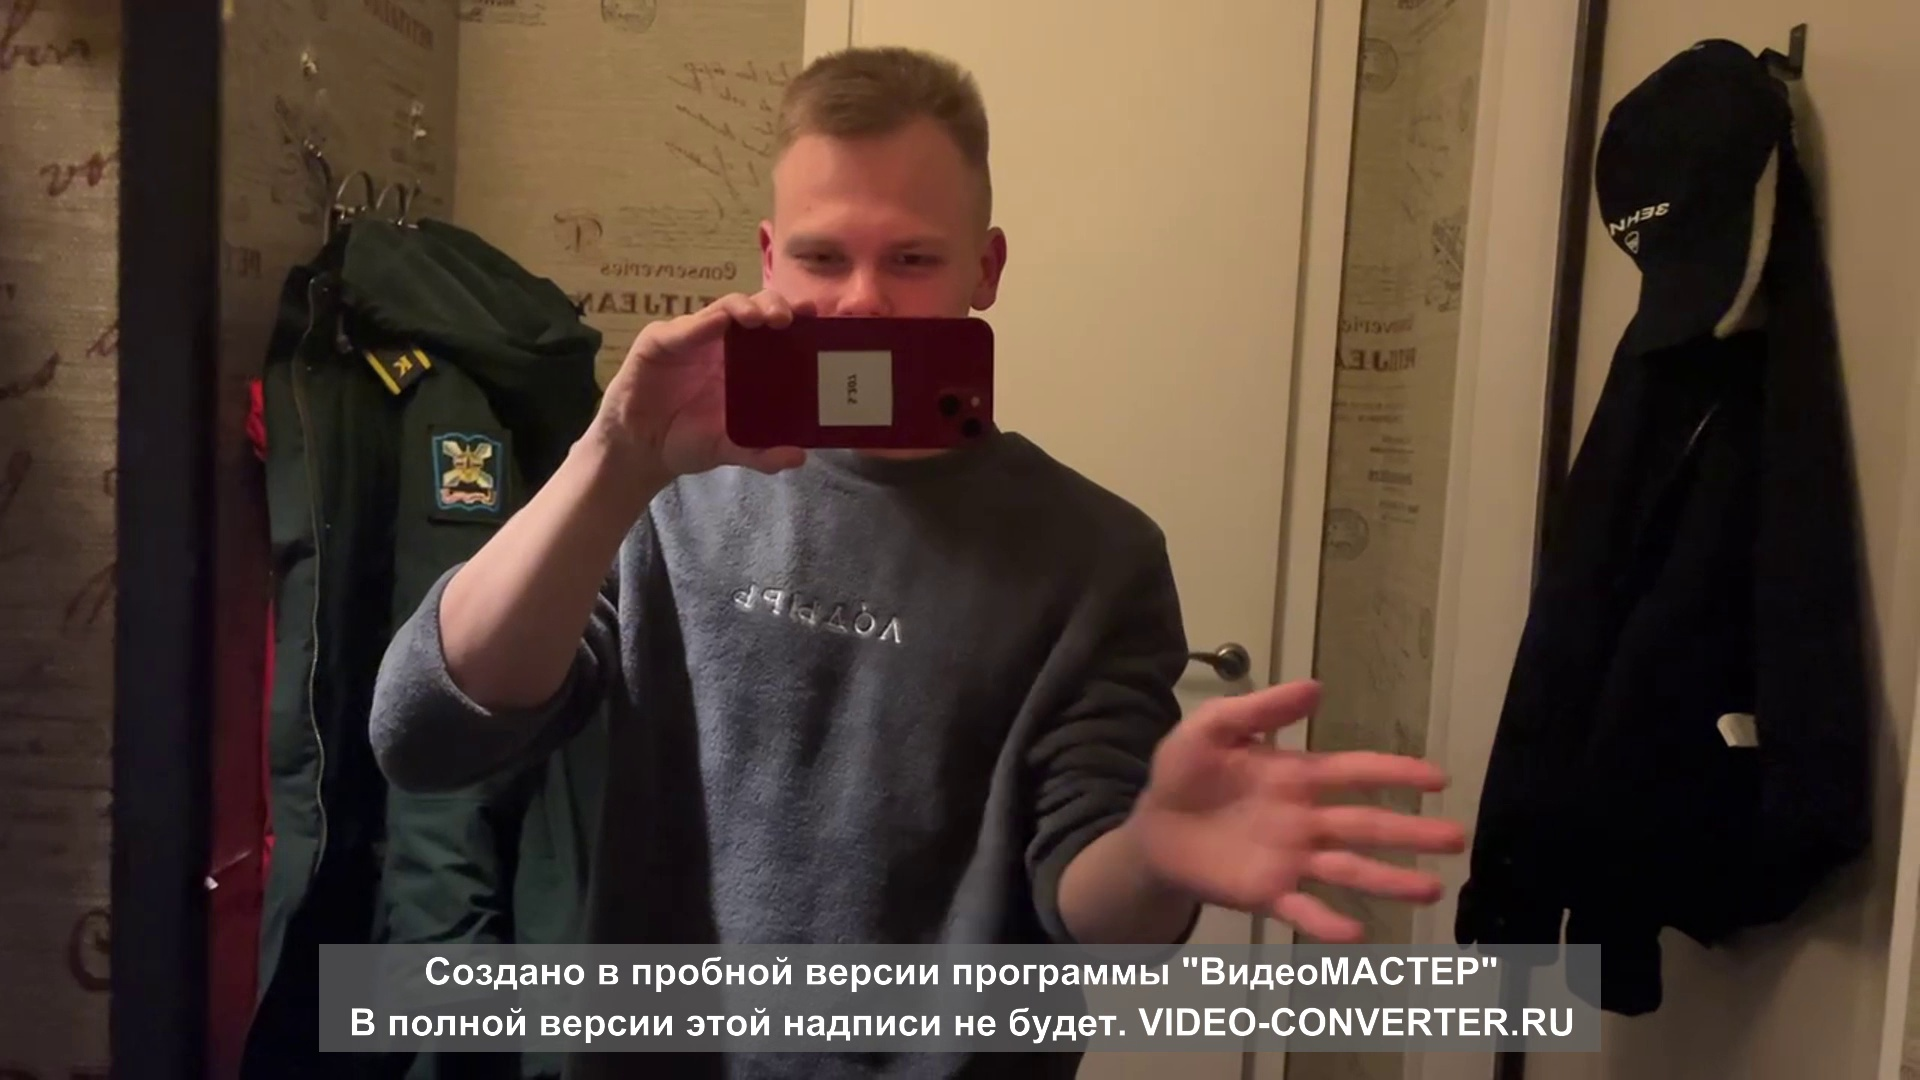Ладонь: (1153, 678, 1466, 940)
